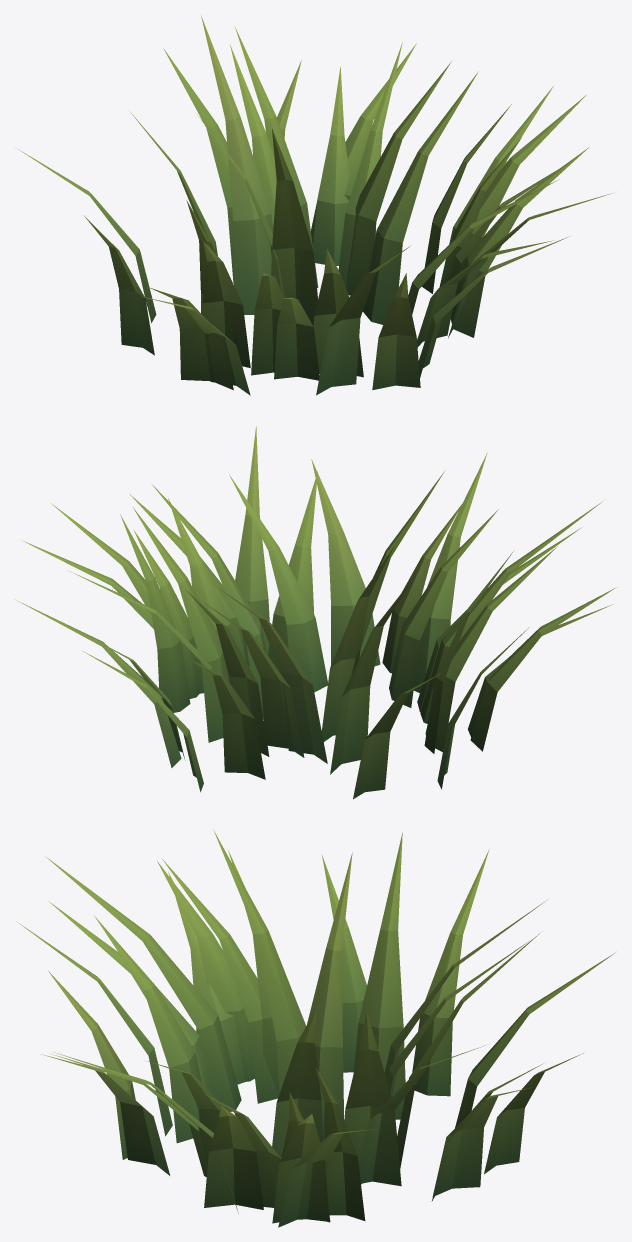
The model's file is gk_grass_meadow_tuft.glb.
3 renders of one model, top to bottom at view 1: azimuth 30°, elevation 25°; view 2: azimuth 150°, elevation 25°; view 3: azimuth 270°, elevation 25°, orthographic. The views are drawn at different scales.
Parts seen in each view (by area): view 1: gk_grass_meadow_tuft; view 2: gk_grass_meadow_tuft; view 3: gk_grass_meadow_tuft.
Part boxes in pixels (x1,y1,x2,y2): gk_grass_meadow_tuft: (18, 15, 612, 395); gk_grass_meadow_tuft: (16, 426, 616, 799); gk_grass_meadow_tuft: (16, 829, 615, 1227).
Size of the model in its own units: 0.5834 by 0.2759 by 0.5479.
